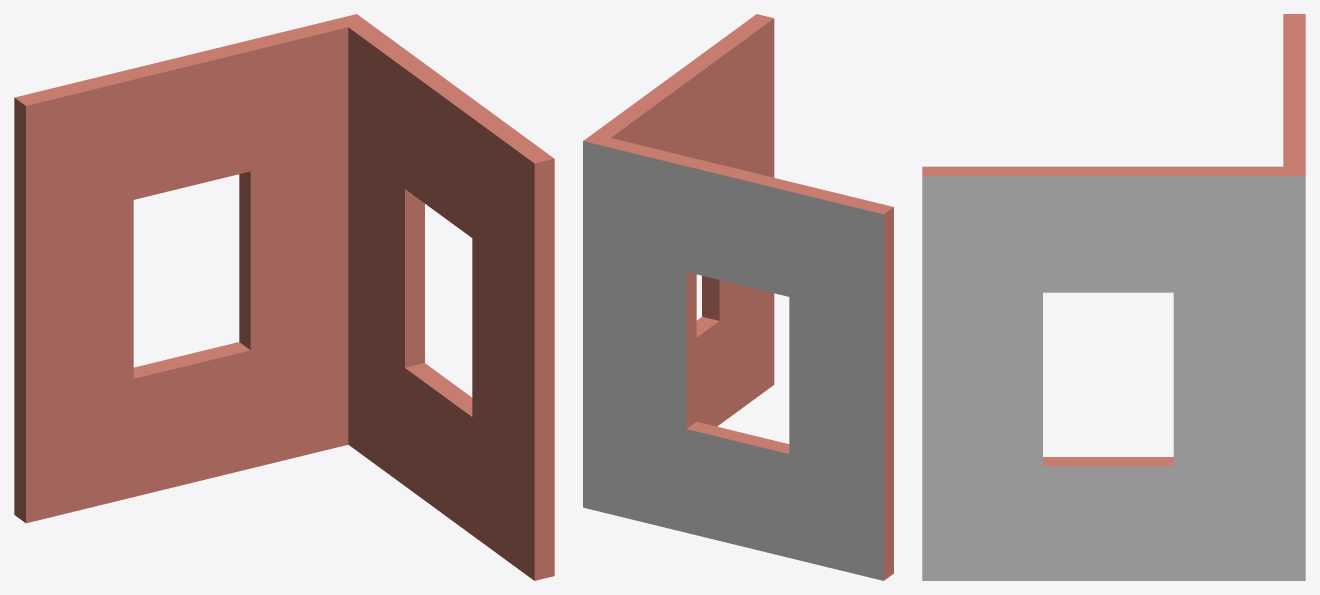
Rendered from Wall1_C6_09.fbx.
3 views of the same model, side by side, from view 1: azimuth 30°, elevation 25°; view 2: azimuth 150°, elevation 25°; view 3: azimuth 270°, elevation 25° (orthographic). The views are drawn at different scales.
Visible parts, largest first — view 1: Wall1_C6_09; view 2: Wall1_C6_09; view 3: Wall1_C6_09.
Boxes of the visible parts, bbox=[...] form: Wall1_C6_09: bbox=[14, 14, 554, 580]; Wall1_C6_09: bbox=[583, 14, 893, 580]; Wall1_C6_09: bbox=[922, 14, 1305, 580].
Bounding box in the file's own units: 258 × 300 × 258.
